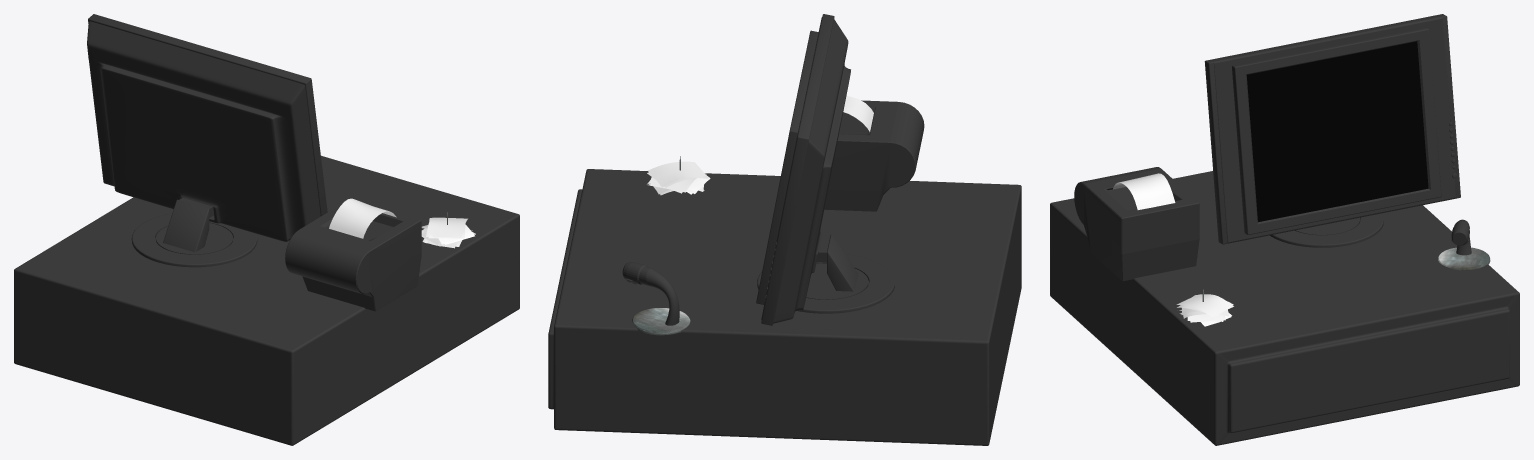
The model's file is cashRegister.glb.
3 views of the same model, side by side, from view 1: azimuth 30°, elevation 25°; view 2: azimuth 150°, elevation 25°; view 3: azimuth 270°, elevation 25° (orthographic). The views are drawn at different scales.
Parts seen in each view (by area): view 1: CASH REGISTER; view 2: CASH REGISTER; view 3: CASH REGISTER.
Part boxes in pixels (x1,y1,x2,y2): CASH REGISTER: (14, 14, 519, 445); CASH REGISTER: (548, 14, 1021, 445); CASH REGISTER: (1050, 14, 1519, 445).
Size of the model in its own units: 0.6616 by 0.4138 by 0.6256.
Materials: 4 (1 with a texture image).
